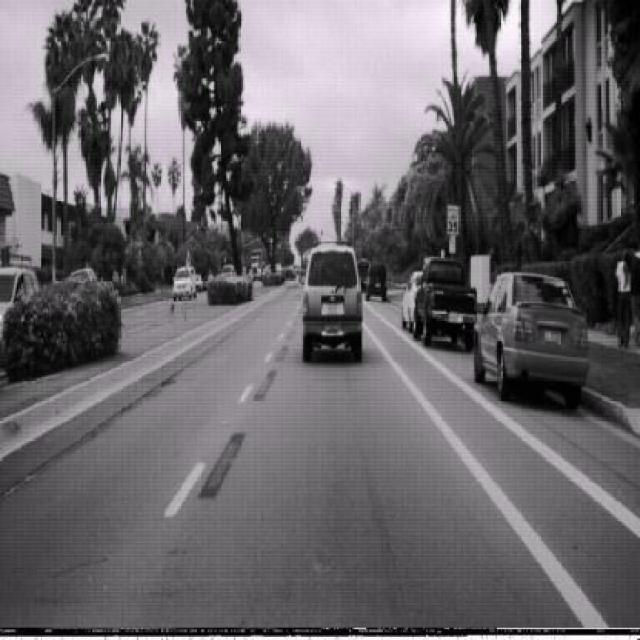speedLimit35: (446, 203, 460, 235)
